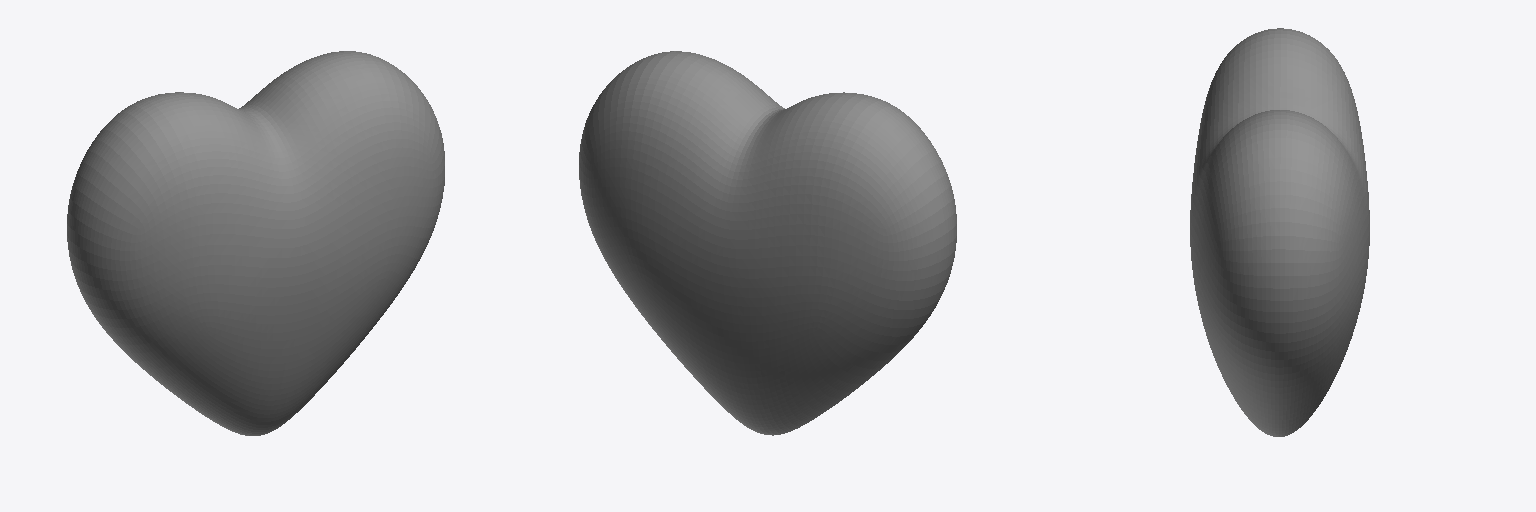
File: heart_old.obj
3 renders of one model, left to right at view 1: azimuth 30°, elevation 25°; view 2: azimuth 150°, elevation 25°; view 3: azimuth 270°, elevation 25°, orthographic.
Parts seen in each view (by area): view 1: Heart; view 2: Heart; view 3: Heart.
Boxes of the visible parts, <box> form: Heart: <box>67,51,444,435</box>; Heart: <box>579,51,956,435</box>; Heart: <box>1190,28,1369,436</box>.
Bounding box in the file's own units: 1.57 × 1.47 × 0.6764.